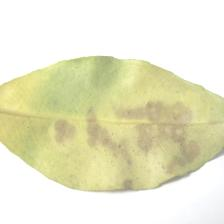black spot: (61, 85, 178, 152)
